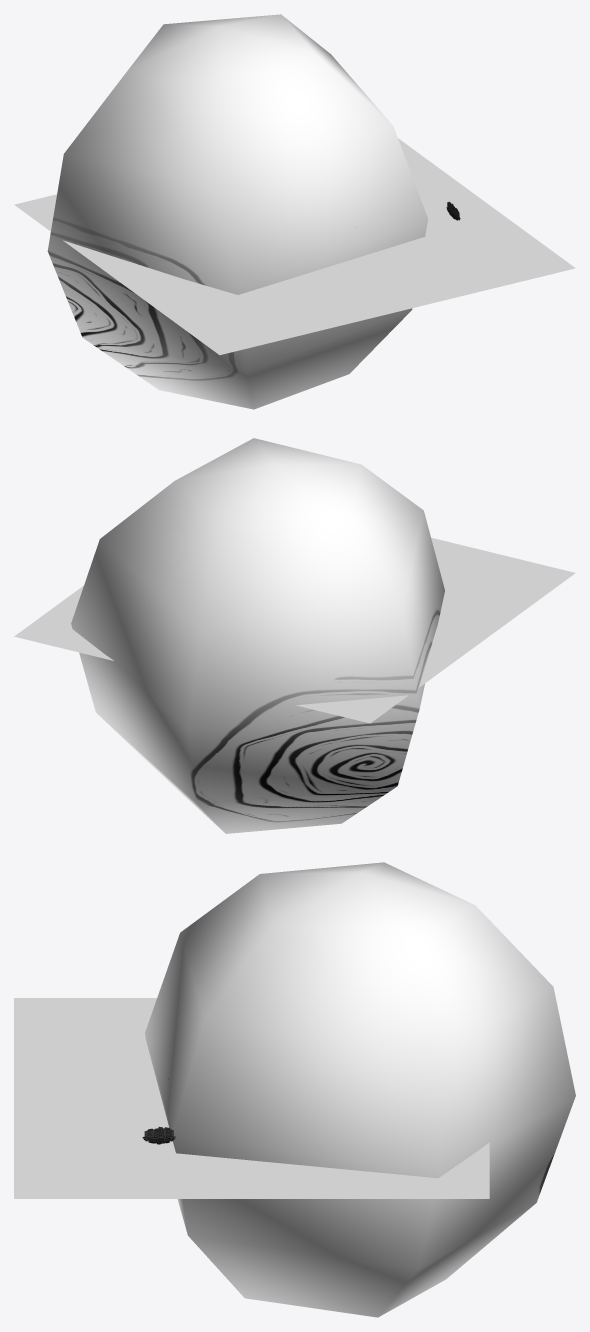
File: seineplateform1.glb
3 renders of one model, top to bottom at view 1: azimuth 30°, elevation 25°; view 2: azimuth 150°, elevation 25°; view 3: azimuth 270°, elevation 25°, orthographic. The views are drawn at different scales.
Visible parts, largest first — view 1: sky, mort; view 2: sky, mort; view 3: sky, mort.
Boxes of the visible parts, x1,y1,x2,y2 form: sky: [47, 14, 428, 409]; mort: [14, 138, 575, 354]; sky: [71, 438, 444, 833]; mort: [14, 537, 575, 723]; sky: [145, 862, 575, 1317]; mort: [14, 998, 489, 1198].
Bounding box in the file's own units: 773 × 735 × 894.
1111 materials, 1103 textured.
